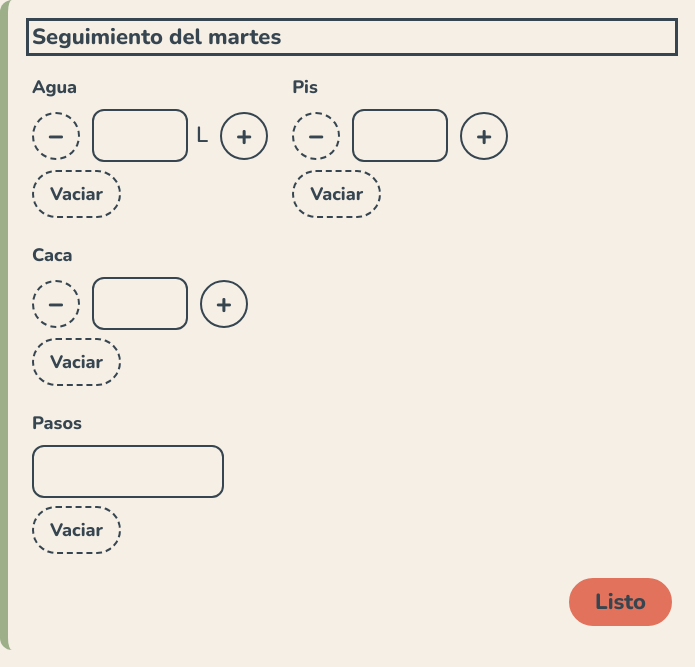
TrackingPanel › Pis 5 y Caca 1 se guardan juntos en un solo guardado
Click the button named "Añadir": (484,136) [460,112,508,160]
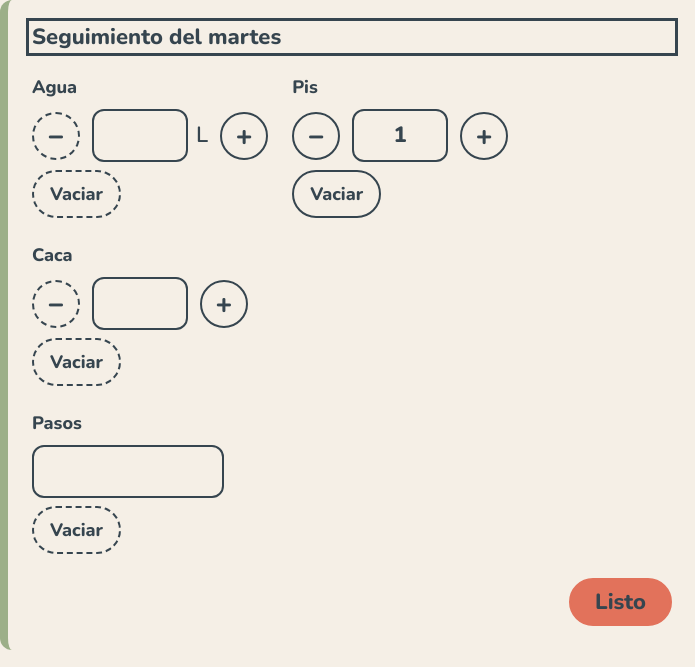
Click the button named "Añadir": (484,136) [460,112,508,160]
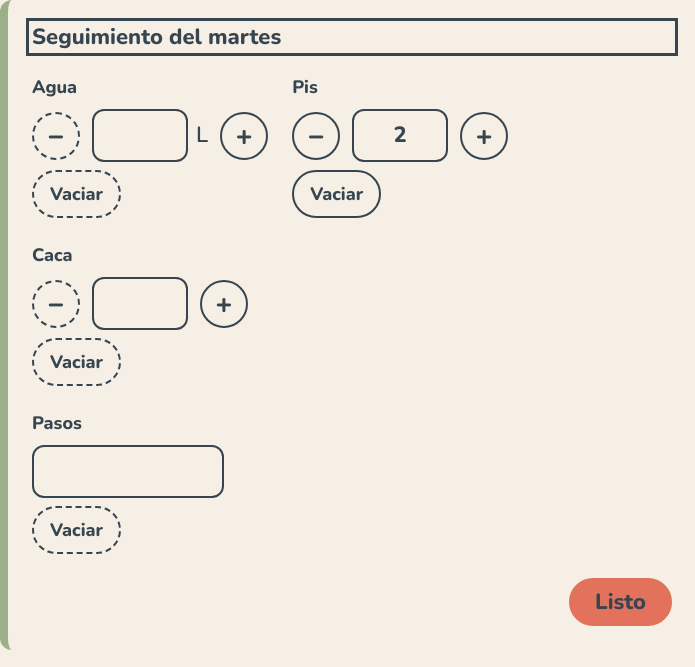
Click the button named "Añadir": (484,136) [460,112,508,160]
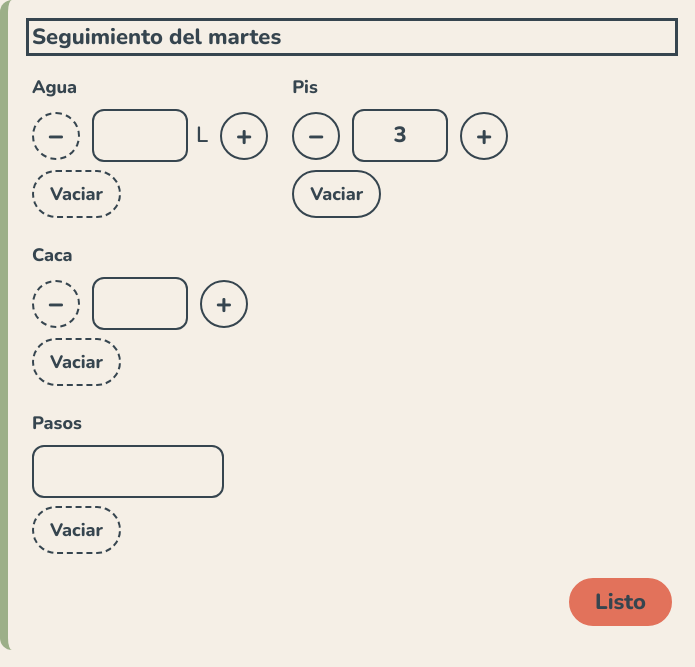
Click the button named "Añadir": (484,136) [460,112,508,160]
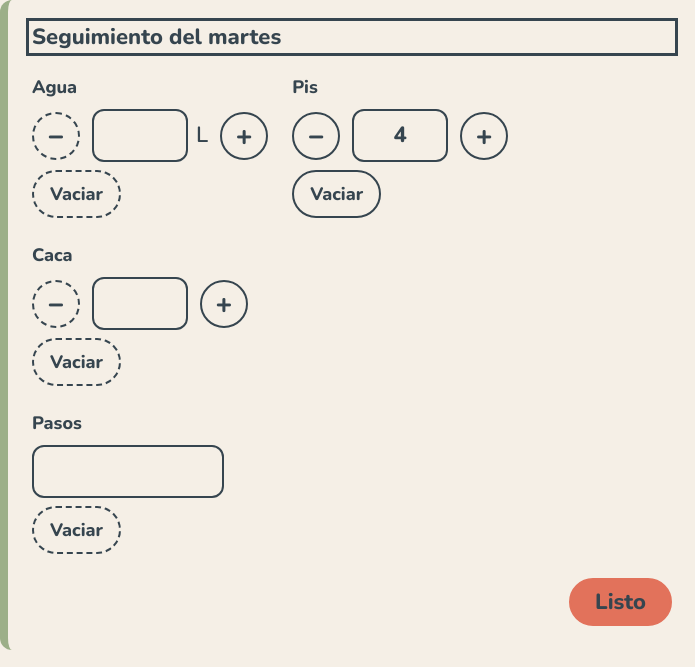
Click the button named "Añadir": (484,136) [460,112,508,160]
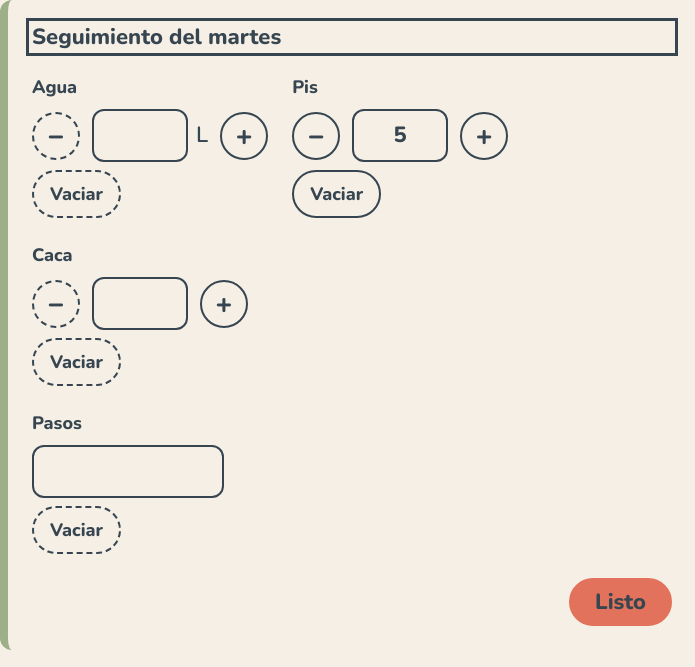
Click the button named "Añadir": (224,304) [200,280,248,328]
Wait 600 ms
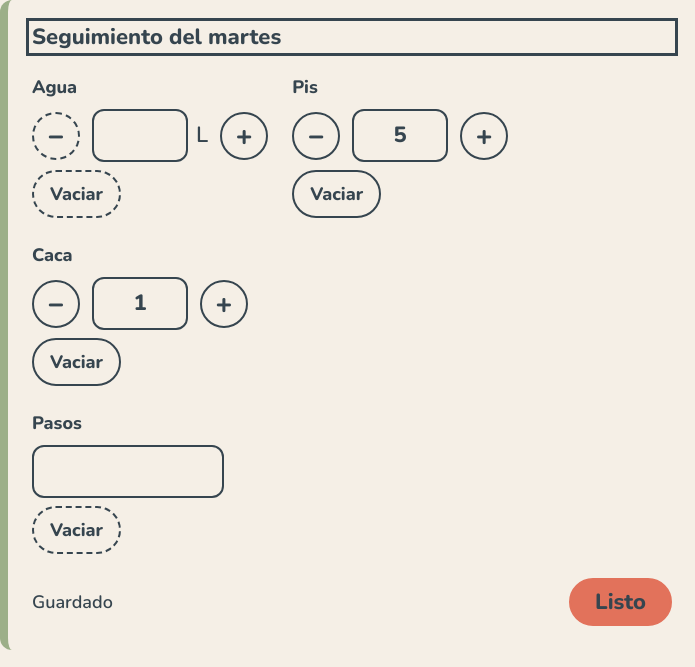
Now the field labelled "Pis" holds "5", box [352,109,448,162]
Now the field labelled "Caca" holds "1", box [92,277,188,330]
